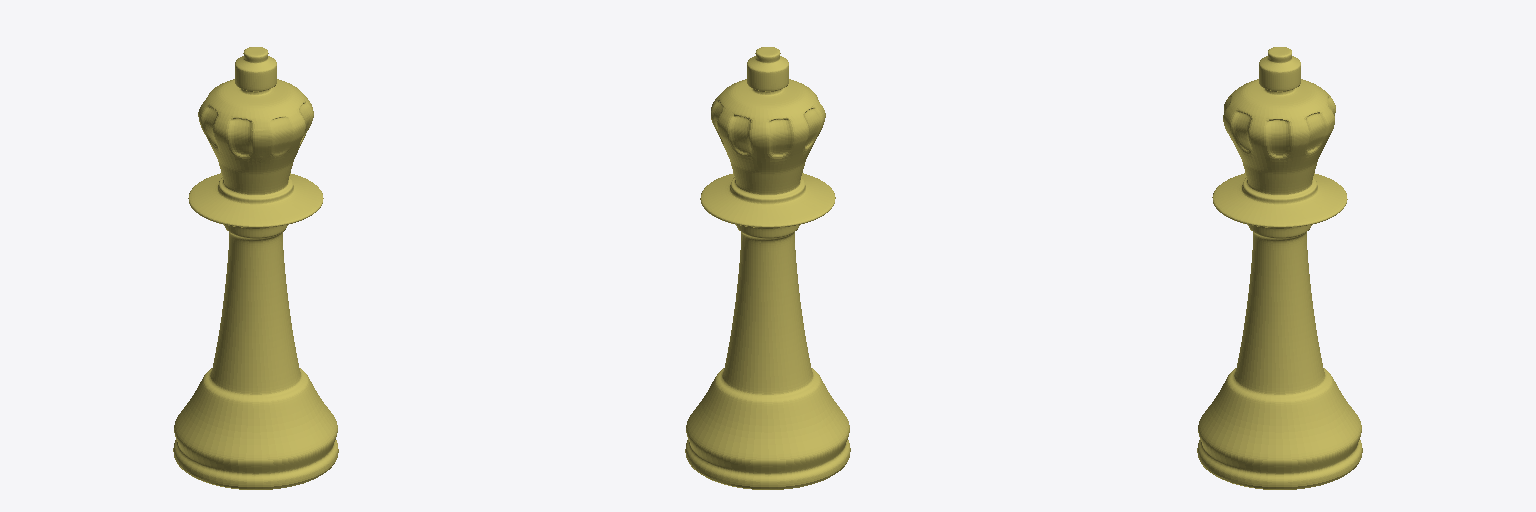
The model's file is white_king.obj.
The picture shows the model from 3 angles: view 1: azimuth 30°, elevation 25°; view 2: azimuth 150°, elevation 25°; view 3: azimuth 270°, elevation 25°; orthographic projection.
Parts seen in each view (by area): view 1: king_Cube; view 2: king_Cube; view 3: king_Cube.
Boxes of the visible parts, x1,y1,x2,y2 form: king_Cube: [173, 47, 338, 489]; king_Cube: [685, 47, 850, 489]; king_Cube: [1197, 47, 1362, 489].
Size of the model in its own units: 0.0421 by 0.1155 by 0.0421.